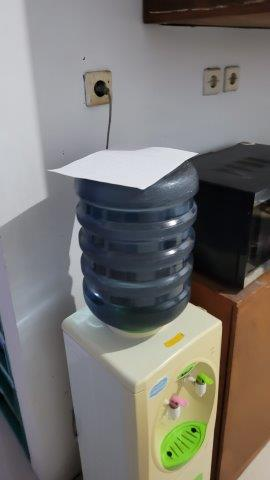kertas: (48, 143, 201, 185)
